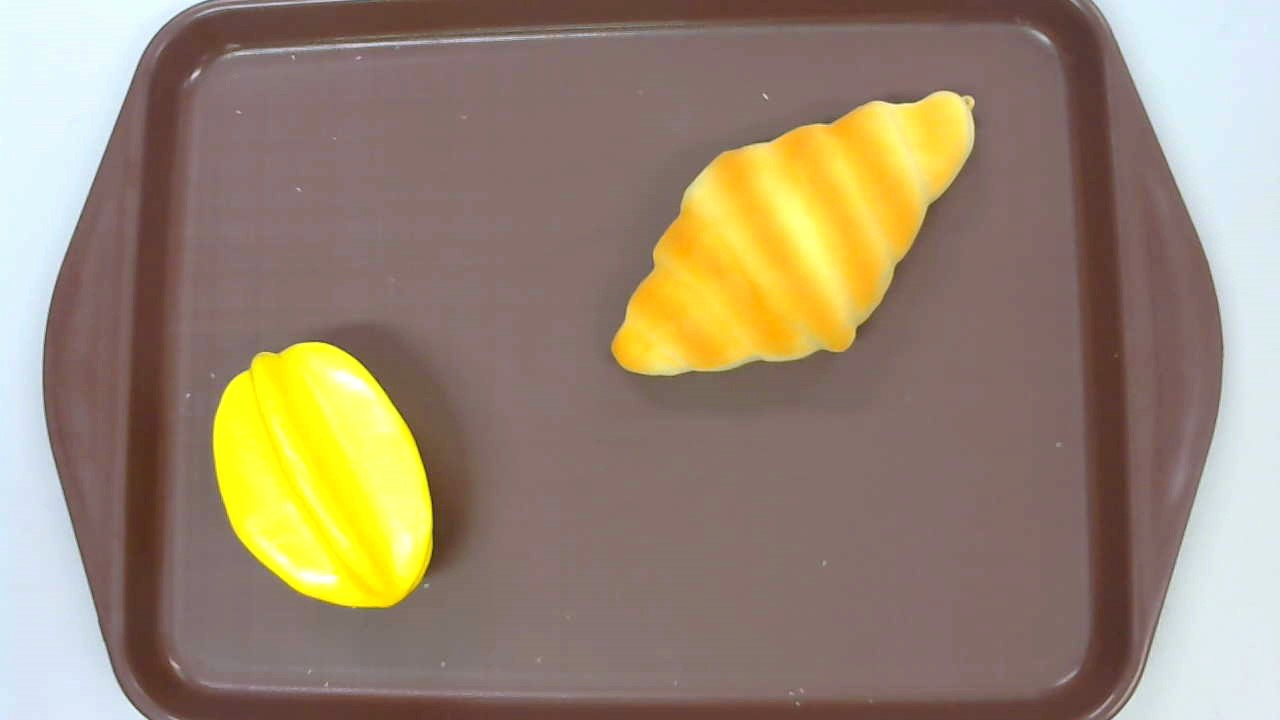croissant: (610, 91, 976, 376)
star fruit: (212, 341, 435, 609)
